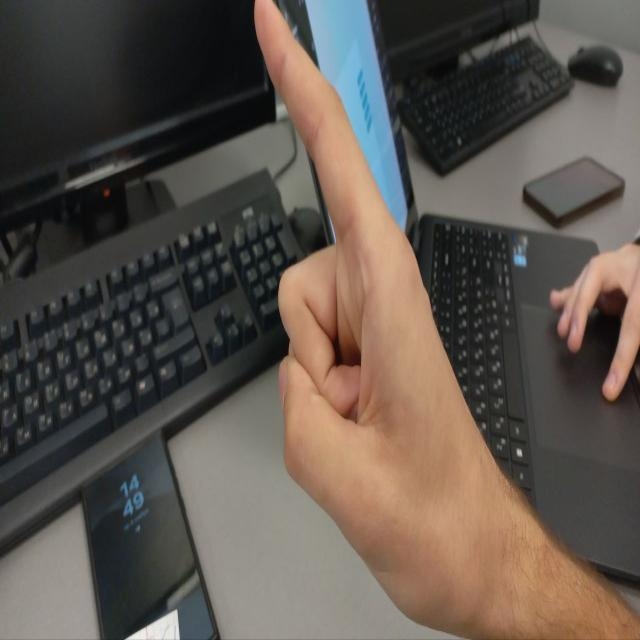z: (243, 1, 471, 578)
